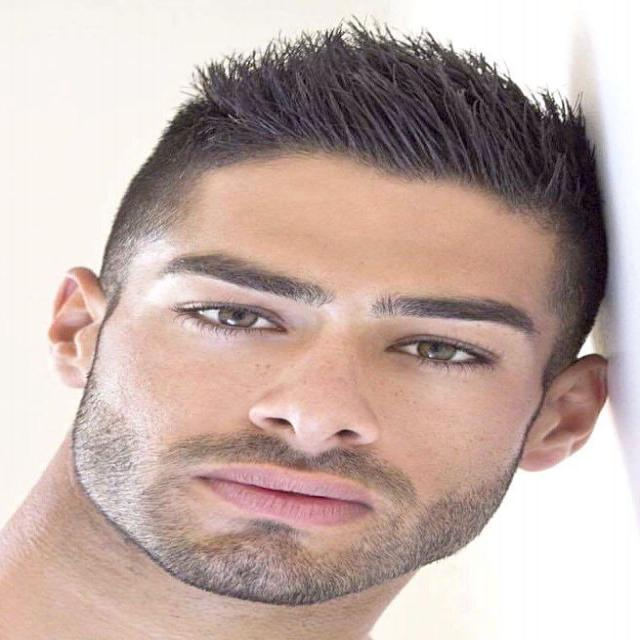earlobe: (516, 438, 560, 472), (54, 356, 90, 389)
eye: (386, 337, 494, 365), (181, 304, 287, 332)
nose: (243, 418, 383, 474)
wholeear: (516, 353, 611, 472), (46, 266, 106, 389)
